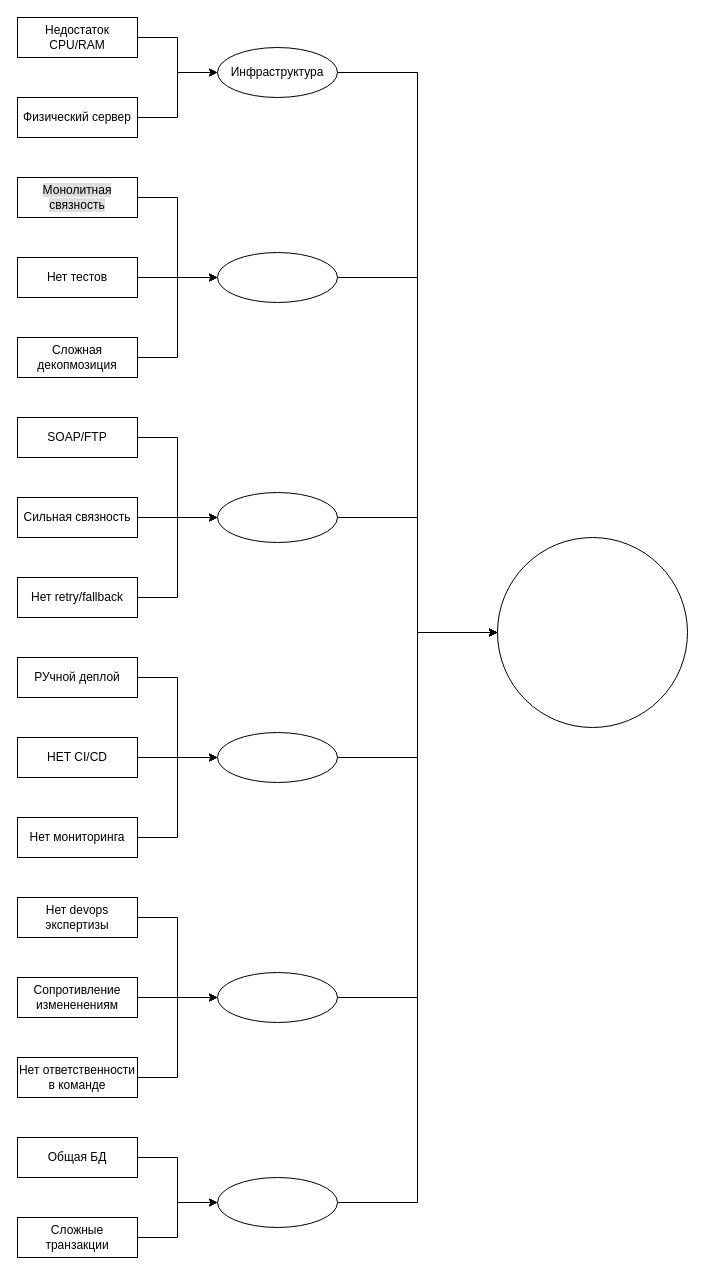
This 705x1275 diagram has some shape labels left out. The shapes that lost their labels are listed below. From the top down, each one's centre as x and y in pixels, then its label:
At point 277,277: "Программное обеспеченье".
At point 277,517: "Интеграция".
At point 592,632: "Узкие места при миграции".
At point 277,757: "Процессы".
At point 277,997: "Команда".
At point 277,1202: "Данные".
